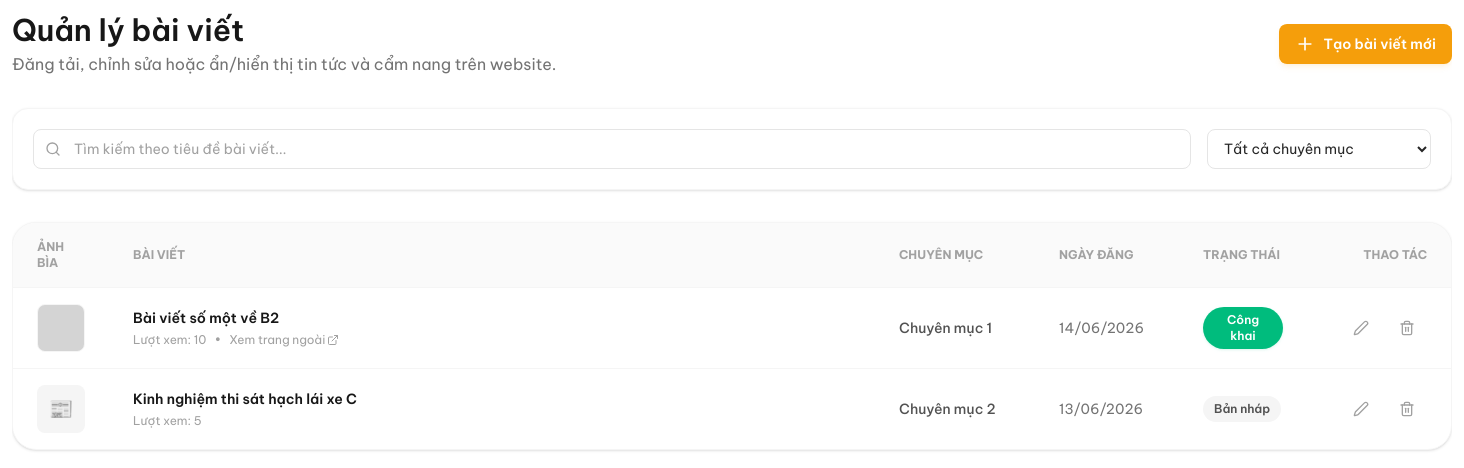
it: AdminNewsPage Component › [HAPPY PATH] nên gọi Supabase xóa bài viết khi click nút Xóa và xác nhận
The width and height of the screenshot is (1464, 468).
Expected: the link "Bài viết số một về B2" is shown, [133,309,279,327]
# Tìm nút Xóa của bài viết thứ nhất (news-1)
What coordinates should you click on to do the following:
click the button titled "Xóa bài viết" in the row of "Bài viết số một về B2"
I would click on:
 (1407, 328)
Its box is [1387,308,1427,348].
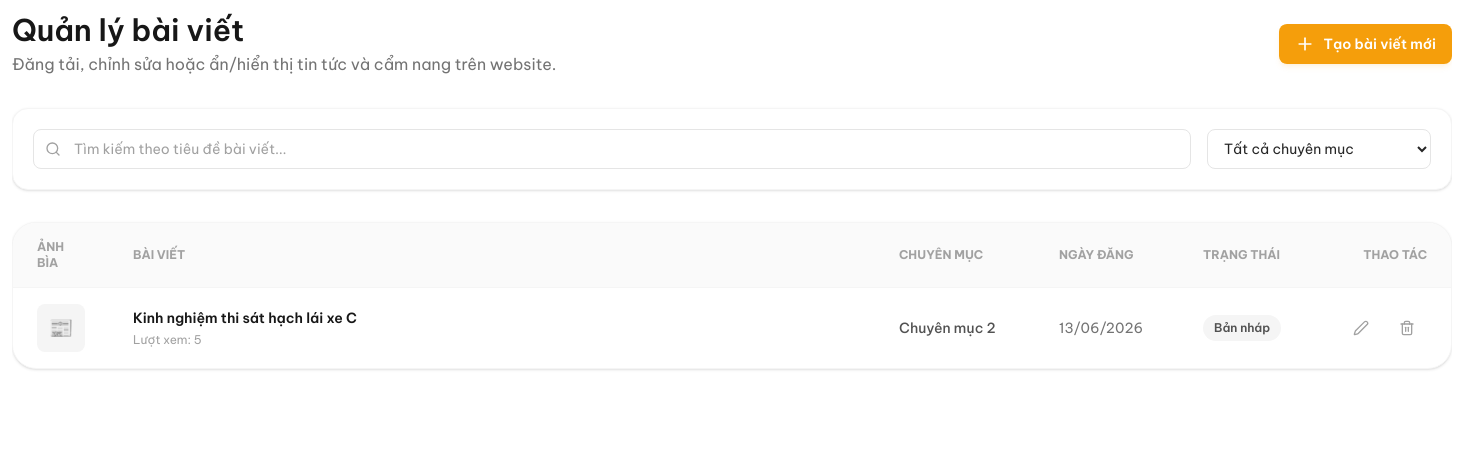
Expected: the link "Bài viết số một về B2" is gone
